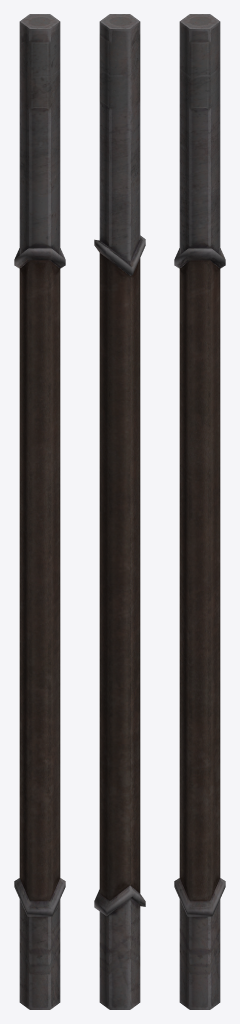
Rendered from sm_dwarf_iron_axe_handle_b.fbx.
3 renders of one model, left to right at view 1: azimuth 90°, elevation 25°; view 2: azimuth 210°, elevation 25°; view 3: azimuth 270°, elevation 25°, orthographic.
Parts seen in each view (by area): view 1: sm_dwarf_iron_axe_handle_b; view 2: sm_dwarf_iron_axe_handle_b; view 3: sm_dwarf_iron_axe_handle_b.
Boxes of the visible parts, x1=… form: sm_dwarf_iron_axe_handle_b: x1=14, y1=14, x2=65, y2=1009; sm_dwarf_iron_axe_handle_b: x1=94, y1=14, x2=145, y2=1009; sm_dwarf_iron_axe_handle_b: x1=174, y1=14, x2=225, y2=1009.
Bounding box in the file's own units: 0.0665 × 0.0762 × 1.6.
1 material, 1 textured.
